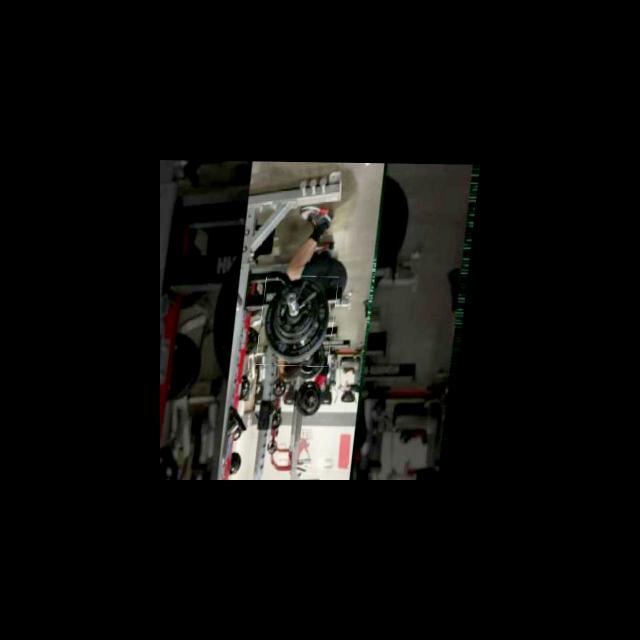barbell: (261, 275, 342, 366)
